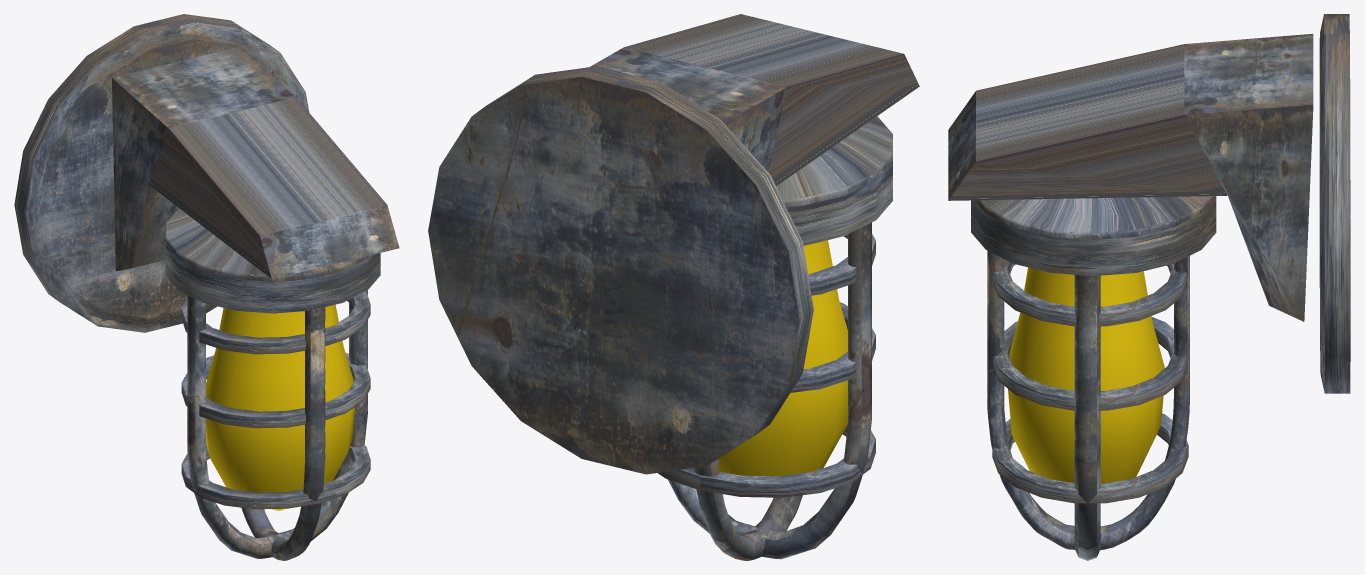
Rendered from WallLight.obj.
The picture shows the model from 3 angles, left to right: view 1: azimuth 30°, elevation 25°; view 2: azimuth 150°, elevation 25°; view 3: azimuth 270°, elevation 25°; orthographic projection. The views are drawn at different scales.
Visible parts, largest first — view 1: Box002, Cylinder001, Sphere001, Cylinder002, Cylinder004, Cylinder005, Tube003, Tube002, Tube001; view 2: Cylinder001, Box002, Sphere001, Cylinder004, Cylinder002, Tube003, Cylinder005, Tube002, Tube001; view 3: Box002, Sphere001, Cylinder002, Cylinder001, Cylinder005, Cylinder004, Tube002, Tube003, Tube001.
Part boxes in pixels (<box>): Box002: <box>112,46,399,279</box>; Cylinder001: <box>14,14,309,332</box>; Sphere001: <box>206,304,355,510</box>; Cylinder002: <box>165,208,380,313</box>; Cylinder004: <box>187,290,367,558</box>; Cylinder005: <box>241,307,325,560</box>; Tube003: <box>181,441,370,509</box>; Tube002: <box>181,353,370,428</box>; Tube001: <box>181,291,370,354</box>; Cylinder001: <box>428,66,813,474</box>; Box002: <box>590,14,919,186</box>; Sphere001: <box>718,240,847,476</box>; Cylinder004: <box>668,222,871,559</box>; Cylinder002: <box>776,116,892,245</box>; Tube003: <box>658,425,875,497</box>; Cylinder005: <box>693,459,802,560</box>; Tube002: <box>790,302,875,392</box>; Tube001: <box>808,234,875,295</box>; Box002: <box>948,33,1313,321</box>; Sphere001: <box>1008,267,1164,483</box>; Cylinder002: <box>971,196,1216,275</box>; Cylinder001: <box>1319,14,1350,393</box>; Cylinder005: <box>987,250,1189,550</box>; Cylinder004: <box>1074,274,1100,560</box>; Tube002: <box>993,317,1186,410</box>; Tube003: <box>992,413,1188,503</box>; Tube001: <box>993,259,1186,326</box>.
Size of the model in its own units: 24.61 by 36.72 by 25.96.
